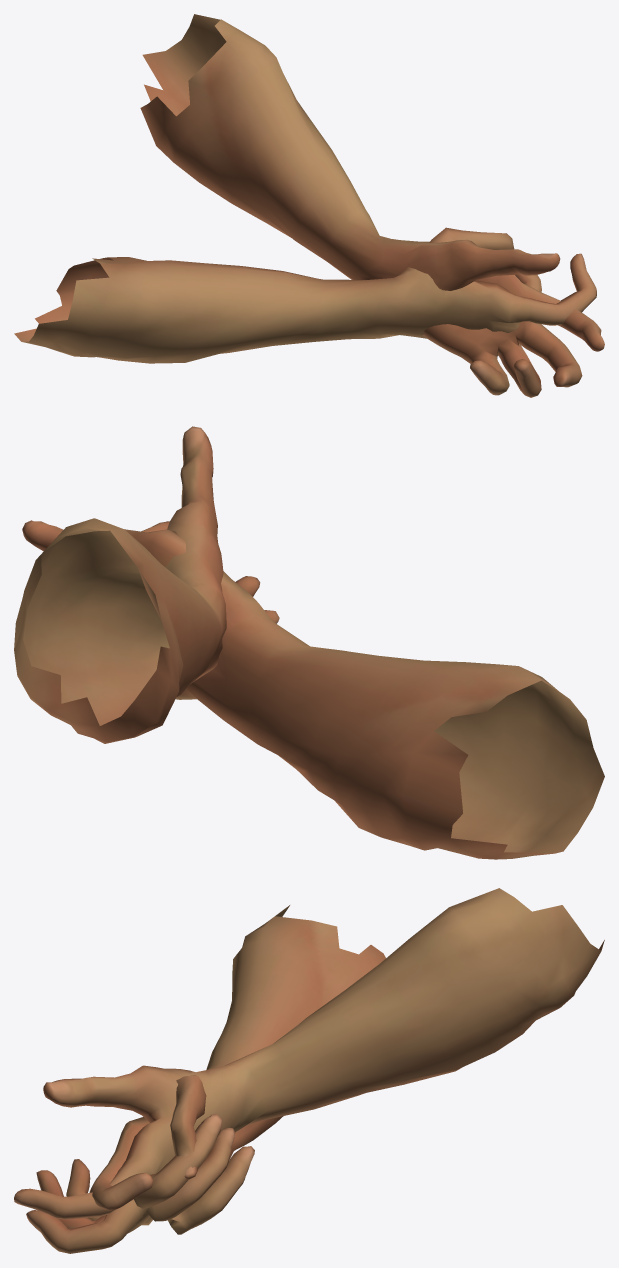
File: hands.glb
3 views of the same model, one above another, from view 1: azimuth 30°, elevation 25°; view 2: azimuth 150°, elevation 25°; view 3: azimuth 270°, elevation 25° (orthographic). The views are drawn at different scales.
Visible parts, largest first — view 1: hand_l, hand_r; view 2: hand_r, hand_l; view 3: hand_l, hand_r.
Part boxes in pixels (bbox=[...]): hand_l: bbox=[140, 14, 604, 397]; hand_r: bbox=[14, 227, 596, 363]; hand_r: bbox=[22, 520, 604, 859]; hand_l: bbox=[14, 426, 279, 743]; hand_l: bbox=[14, 888, 604, 1253]; hand_r: bbox=[89, 905, 385, 1234].
Size of the model in its own units: 0.4948 by 0.2611 by 0.4872.
Materials: 1 (1 with a texture image).
